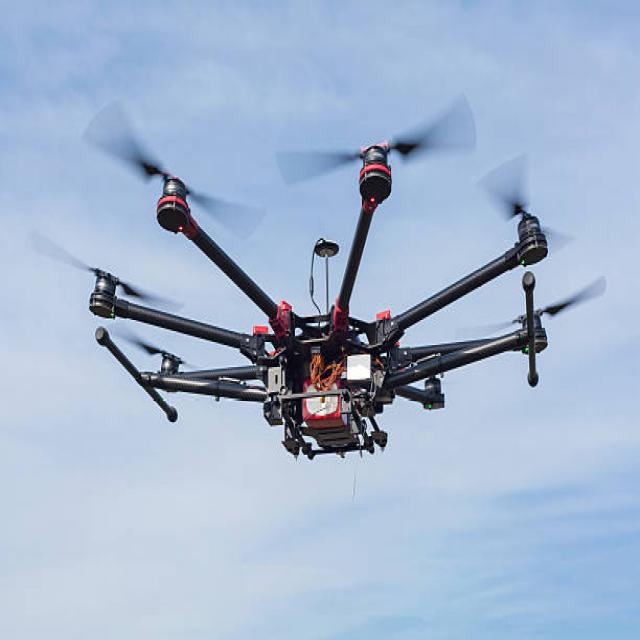drone: (50, 106, 622, 496)
